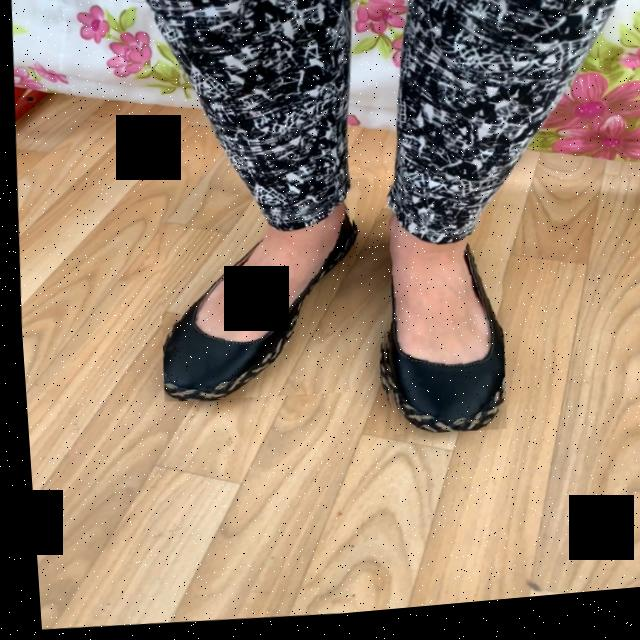shoe: (157, 215, 349, 403), (379, 225, 499, 440)
